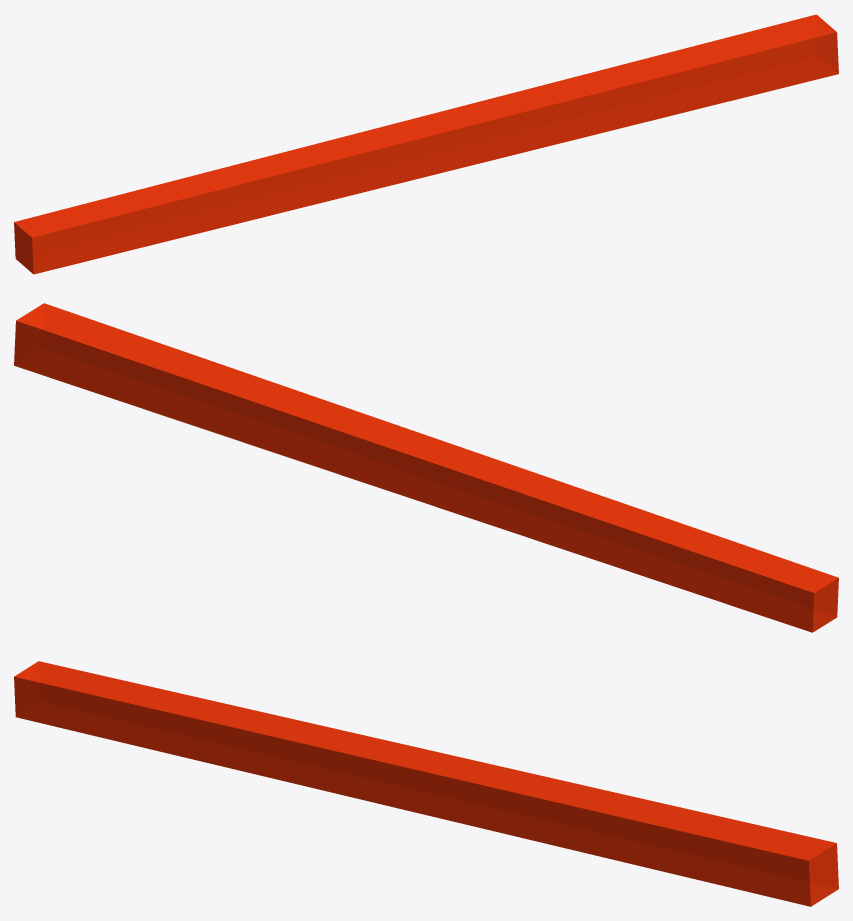
File: Event_420107950_EErechit_48.fbx
The picture shows the model from 3 angles, top to bottom: view 1: azimuth 30°, elevation 25°; view 2: azimuth 150°, elevation 25°; view 3: azimuth 330°, elevation 25°; orthographic projection. The views are drawn at different scales.
Parts seen in each view (by area): view 1: Model; view 2: Model; view 3: Model.
Boxes of the visible parts, x1,y1,x2,y2 form: Model: [14, 14, 838, 274]; Model: [14, 303, 838, 632]; Model: [14, 661, 838, 906].
Size of the model in its own units: 1.58 by 0.1545 by 0.1915.
